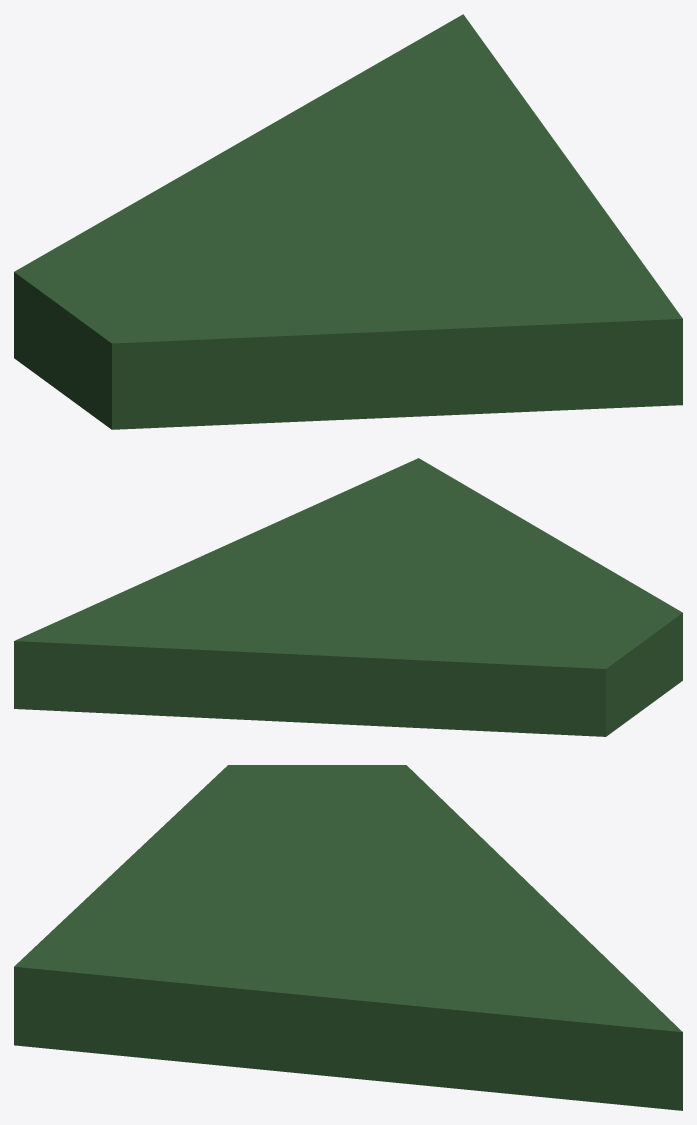
The model's file is x_proval_00_103_1_rmstrd.fbx.
The picture shows the model from 3 angles, top to bottom: view 1: azimuth 30°, elevation 25°; view 2: azimuth 150°, elevation 25°; view 3: azimuth 270°, elevation 25°; orthographic projection. The views are drawn at different scales.
Parts seen in each view (by area): view 1: x_proval_00_103_1_rmstrd1; view 2: x_proval_00_103_1_rmstrd1; view 3: x_proval_00_103_1_rmstrd1.
Boxes of the visible parts, x1,y1,x2,y2 form: x_proval_00_103_1_rmstrd1: (14, 14, 682, 429); x_proval_00_103_1_rmstrd1: (14, 458, 682, 736); x_proval_00_103_1_rmstrd1: (14, 765, 682, 1110).
Bounding box in the file's own units: 1.46 × 0.2 × 1.54.
